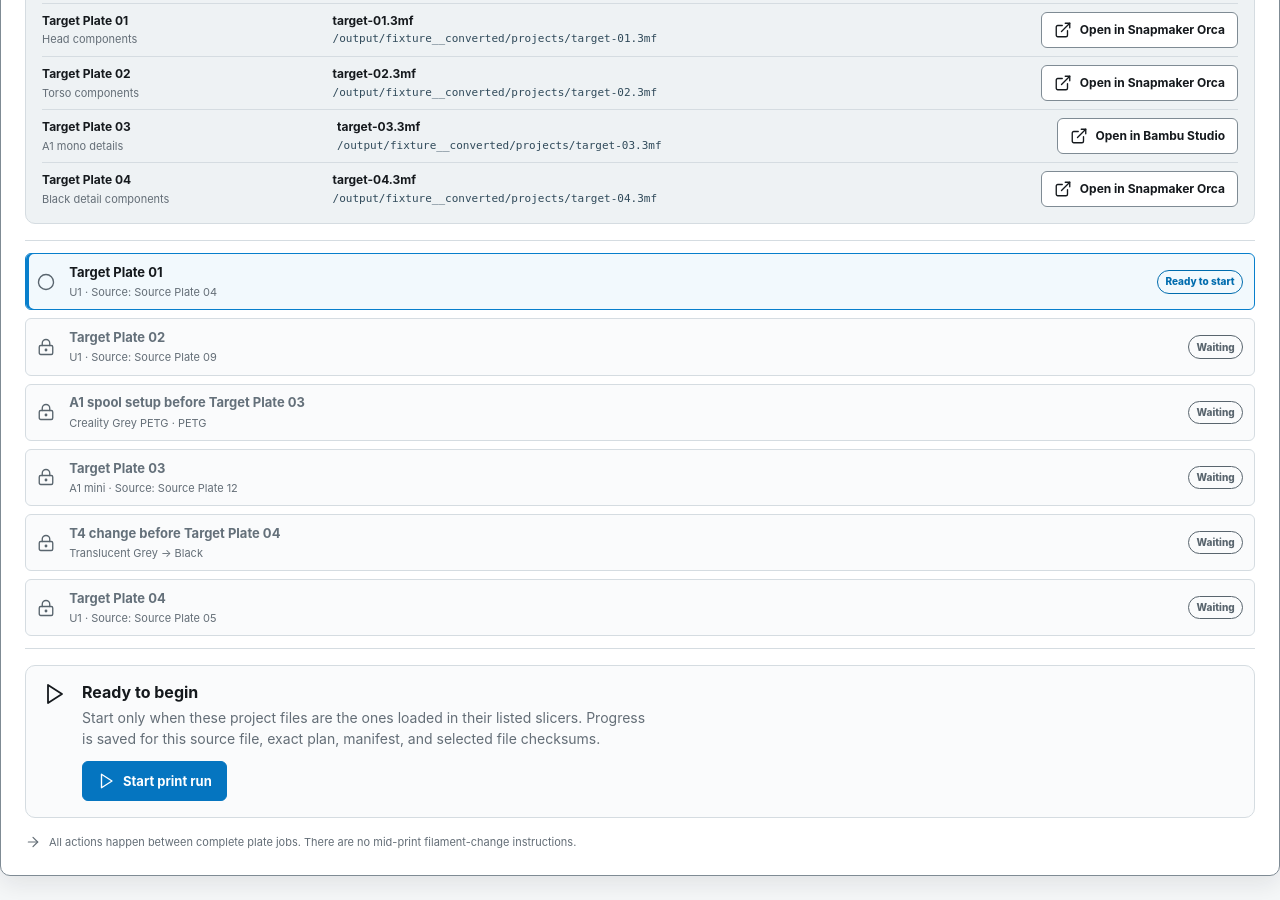
PrintRun › does not advance when local progress persistence fails and lets the operator retry
The image size is (1280, 900).
(page scrolled)
Click the button "Start print run": (154, 781) top-left (82, 761), bottom-right (227, 801)
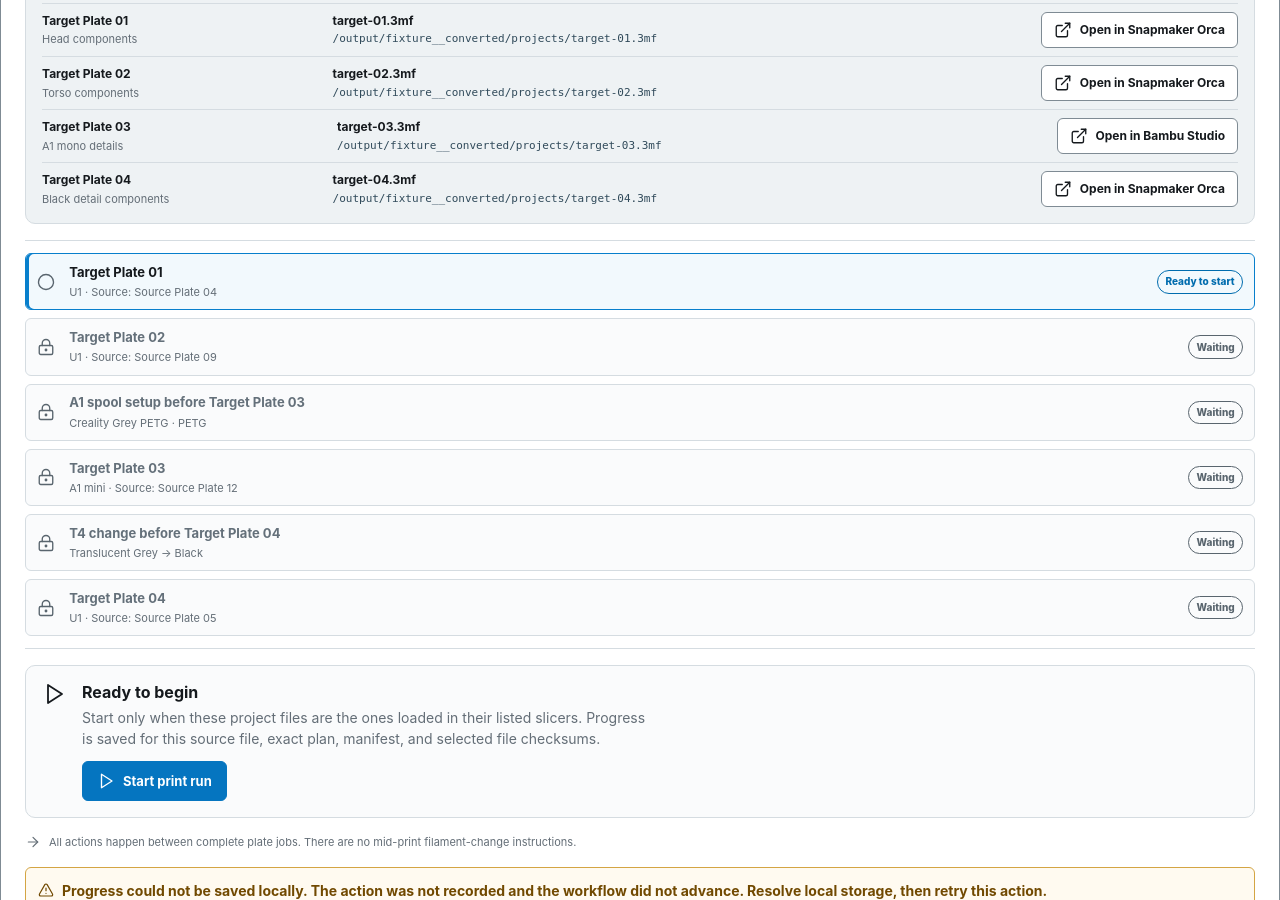
Check: the heading "Ready to begin" is shown, box top-left (82, 682), bottom-right (198, 702)
Check: the message shows "action was not recorded and the workflow did not advance", box top-left (62, 882), bottom-right (1047, 899)
Click the button "Start print run": (154, 781) top-left (82, 761), bottom-right (227, 801)
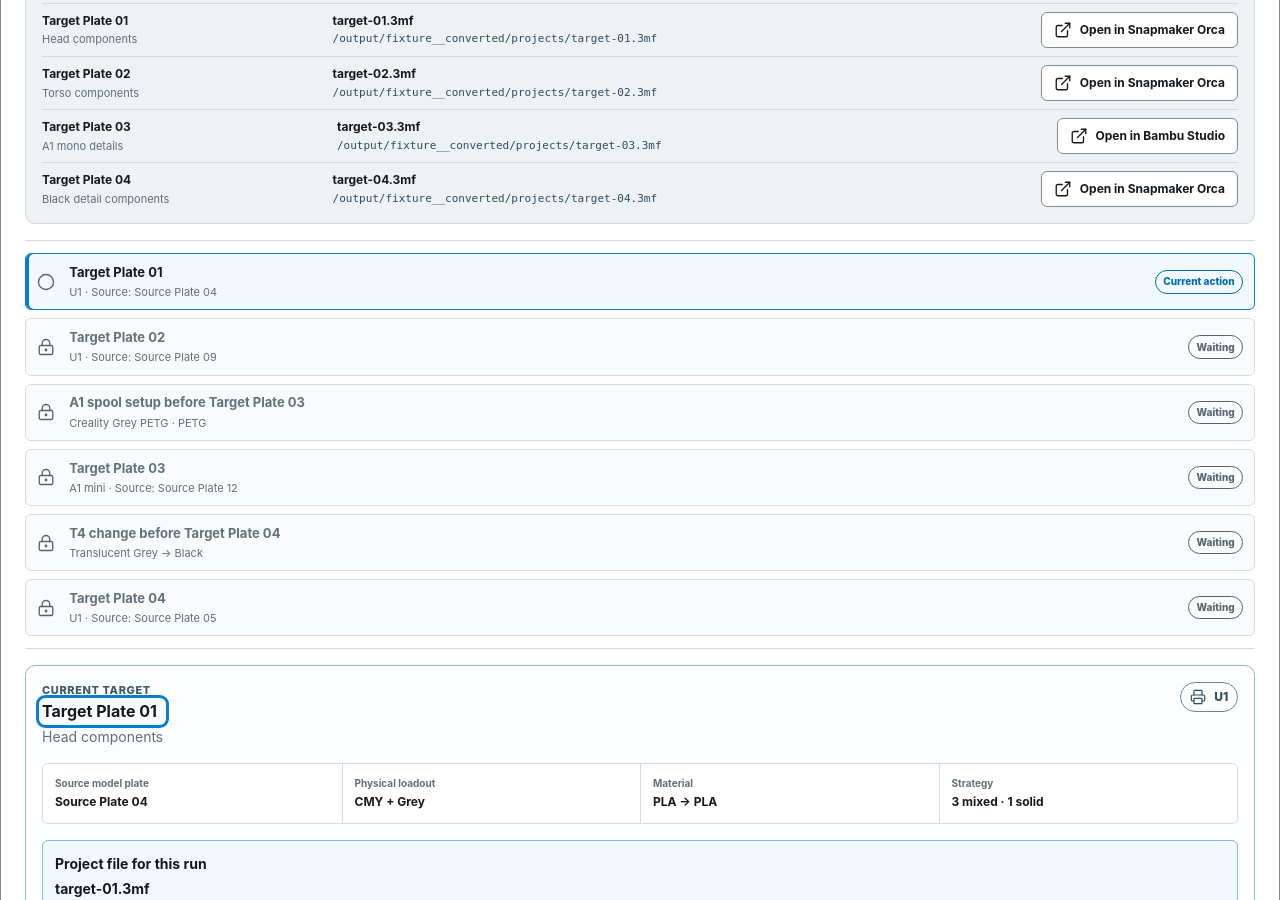
Check: the heading "Target Plate 01" is shown, box top-left (42, 701), bottom-right (163, 722)
